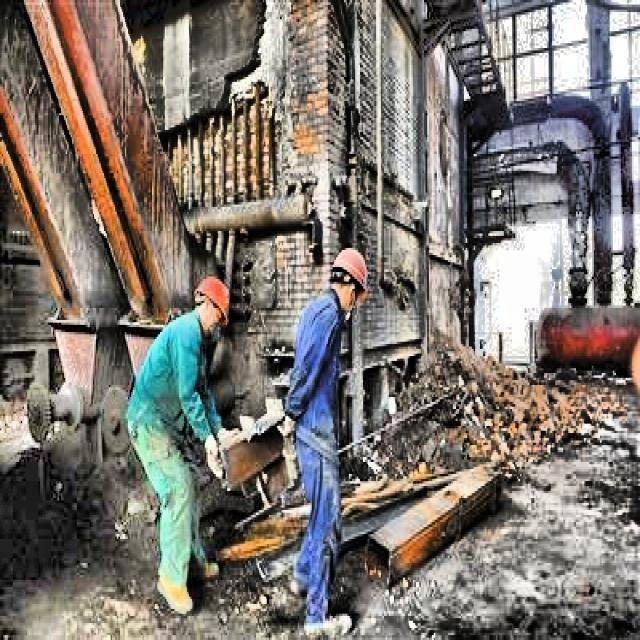helmet: (326, 246, 372, 316), (190, 272, 233, 339)
